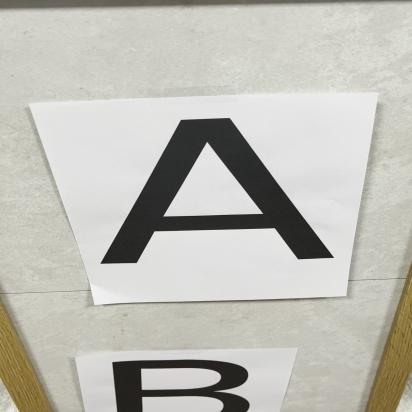seat: (91, 113, 371, 283)
